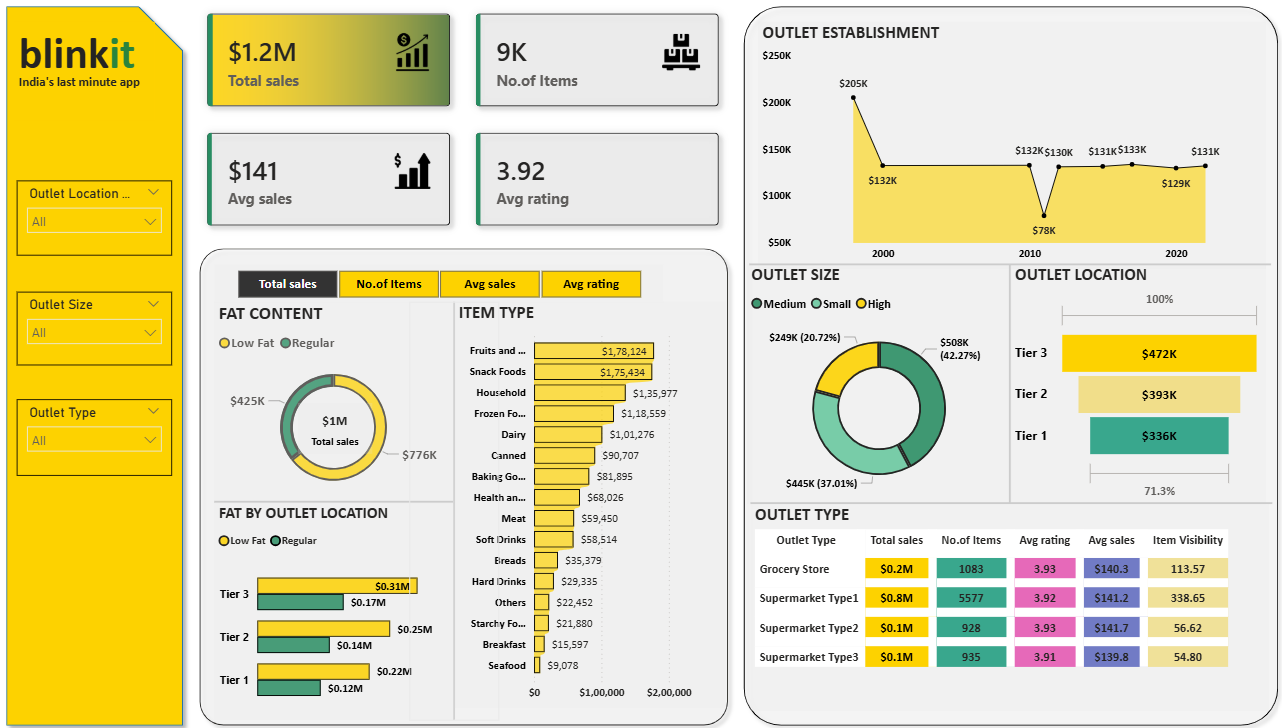

What the dashboard file says about the page in this screenshot:
{"tool":"powerbi","page":{"name":"Page 1","canvas":[1400,800],"ordinal":0},"visuals":[{"type":"shape","box":[0,0,210.1,800],"z":0},{"type":"textbox","box":[18,25.5,153.1,100.6],"z":1000},{"type":"textbox","box":[18,76.5,153.1,57],"z":2000},{"type":"cardVisual","fields":{"Data":["BlinkIT Grocery Data.Total sales","BlinkIT Grocery Data.No.of Items","BlinkIT Grocery Data.Avg sales","BlinkIT Grocery Data.Avg rating"]},"box":[210.1,0,591.3,264.2],"z":3000},{"type":"shape","box":[210.1,264.2,591.3,535.8],"z":4000},{"type":"donutChart","title":"FAT CONTENT","fields":{"Y":["BlinkIT Grocery Data.Total sales"],"Category":["BlinkIT Grocery Data.Item Fat Content"]},"box":[235.6,330.2,259.6,219.1],"z":5000},{"type":"slicer","fields":{"Values":["Metrics.Metrics"]},"box":[235.6,289.7,487.8,40.5],"z":6000},{"type":"card","fields":{"Values":["BlinkIT Grocery Data.Total sales"]},"box":[325.7,439.8,81,55.5],"z":7000},{"type":"clusteredBarChart","title":"FAT BY OUTLET LOCATION","fields":{"Y":["BlinkIT Grocery Data.Total sales"],"Category":["BlinkIT Grocery Data.Outlet Location Type"],"Series":["BlinkIT Grocery Data.Item Fat Content"]},"box":[235.6,549.3,259.6,235.6],"z":8000},{"type":"shape","box":[235.6,519.3,259.6,57],"z":9000},{"type":"barChart","title":" ITEM TYPE","fields":{"Y":["BlinkIT Grocery Data.Total sales"],"Category":["BlinkIT Grocery Data.Item Type"]},"box":[495.3,330.2,294.2,441.3],"z":10000},{"type":"shape","box":[447.3,330.2,97.6,454.8],"z":11000},{"type":"shape","box":[801.5,0,598.8,800],"z":12000},{"type":"lineChart","title":"OUTLET ESTABLISHMENT","fields":{"Y":["BlinkIT Grocery Data.Total sales"],"Category":["BlinkIT Grocery Data.Outlet Establishment Year"]},"box":[825.5,25.5,552.3,268.7],"z":13000},{"type":"donutChart","title":"OUTLET SIZE","fields":{"Y":["BlinkIT Grocery Data.Total sales"],"Category":["BlinkIT Grocery Data.Outlet Size"]},"box":[813.5,289.7,288.2,261.2],"z":14000},{"type":"funnel","title":"OUTLET LOCATION","fields":{"Y":["BlinkIT Grocery Data.Total sales"],"Category":["BlinkIT Grocery Data.Outlet Location Type"]},"box":[1100.1,289.7,277.7,261.2],"z":15000},{"type":"pivotTable","title":"OUTLET TYPE","fields":{"Rows":["BlinkIT Grocery Data.Outlet Type"],"Values":["BlinkIT Grocery Data.Total sales","BlinkIT Grocery Data.No.of Items","BlinkIT Grocery Data.Avg rating","BlinkIT Grocery Data.Avg sales","Sum(BlinkIT Grocery Data.Item Visibility)"]},"box":[818,550.8,562.8,225.1],"z":16000},{"type":"shape","box":[816.5,259.6,567.3,60],"z":17000},{"type":"shape","box":[950,289.7,300.2,259.6],"z":18000},{"type":"shape","box":[818,519.3,567.3,60],"z":19000},{"type":"slicer","fields":{"Values":["BlinkIT Grocery Data.Outlet Location Type"]},"box":[20.4,198.4,168.5,81.5],"z":20000},{"type":"slicer","fields":{"Values":["BlinkIT Grocery Data.Outlet Size"]},"box":[20.4,319.3,168.5,80.2],"z":21000},{"type":"slicer","fields":{"Values":["BlinkIT Grocery Data.Outlet Type"]},"box":[20.4,436.1,168.5,82.9],"z":22000}]}

Visuals, with their boxes in screenshot pixels (x1, y1, x2, y2), scaled from the page's 1400x800 canvas onto the 1282x728 screenshot:
shape: <bbox>0, 0, 192, 727</bbox>
textbox: <bbox>16, 23, 157, 115</bbox>
textbox: <bbox>16, 70, 157, 121</bbox>
cardVisual - BlinkIT Grocery Data.Total sales x BlinkIT Grocery Data.No.of Items: <bbox>192, 0, 734, 240</bbox>
shape: <bbox>192, 240, 734, 727</bbox>
"FAT CONTENT" donutChart: <bbox>216, 300, 453, 500</bbox>
slicer - Metrics.Metrics: <bbox>216, 264, 662, 300</bbox>
card - BlinkIT Grocery Data.Total sales: <bbox>298, 400, 372, 451</bbox>
"FAT BY OUTLET LOCATION" clusteredBarChart: <bbox>216, 500, 453, 714</bbox>
shape: <bbox>216, 473, 453, 524</bbox>
" ITEM TYPE" barChart: <bbox>454, 300, 723, 702</bbox>
shape: <bbox>410, 300, 499, 714</bbox>
shape: <bbox>734, 0, 1281, 727</bbox>
"OUTLET ESTABLISHMENT" lineChart: <bbox>756, 23, 1262, 268</bbox>
"OUTLET SIZE" donutChart: <bbox>745, 264, 1009, 501</bbox>
"OUTLET LOCATION" funnel: <bbox>1007, 264, 1262, 501</bbox>
"OUTLET TYPE" pivotTable: <bbox>749, 501, 1264, 706</bbox>
shape: <bbox>748, 236, 1267, 291</bbox>
shape: <bbox>870, 264, 1145, 500</bbox>
shape: <bbox>749, 473, 1269, 527</bbox>
slicer - BlinkIT Grocery Data.Outlet Location Type: <bbox>19, 181, 173, 255</bbox>
slicer - BlinkIT Grocery Data.Outlet Size: <bbox>19, 291, 173, 364</bbox>
slicer - BlinkIT Grocery Data.Outlet Type: <bbox>19, 397, 173, 472</bbox>
